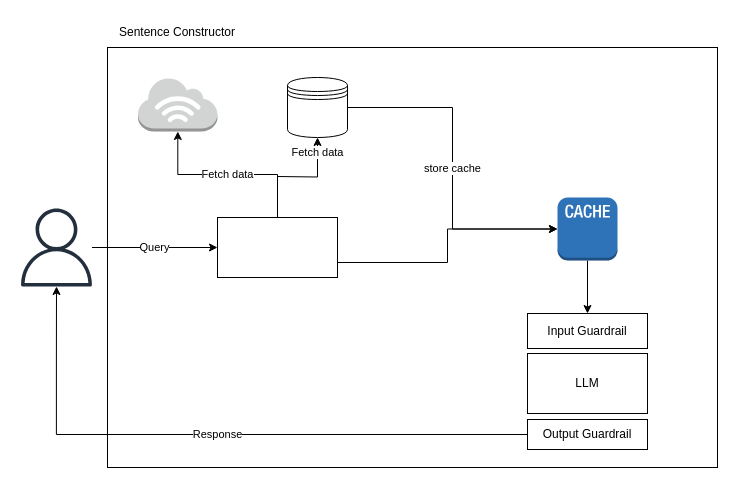
Image size: 735x485. Some labels were removed from this diagram. The shapes that lost their labels are listed below. From the top down, each one's centre as x and y in pixels, then its label:
point (317, 107): DB
point (277, 247): RAG
